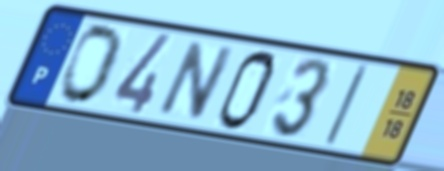0: (215, 47, 280, 132)
3: (264, 56, 336, 141)
4: (109, 29, 176, 119)
I: (319, 62, 373, 150)
N: (152, 39, 240, 123)
O: (57, 22, 128, 107)
